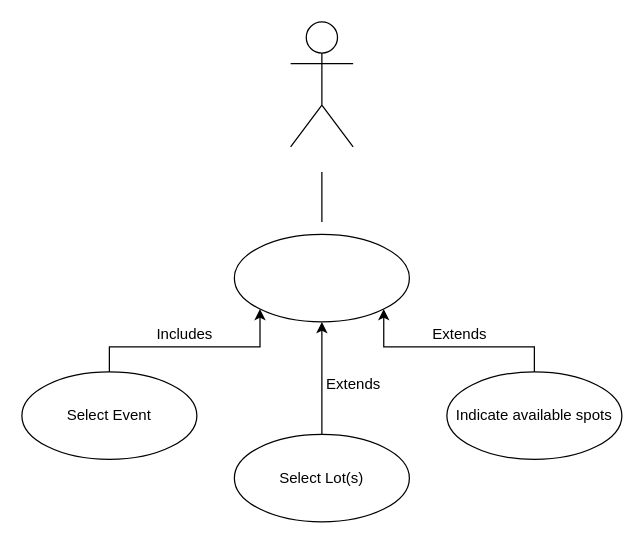
This 644x544 diagram has some shape labels left out. Here are the shapes that lost their labels. From the top down, the centre of each, then its label:
At point (321, 84): "Parking Lot Owner".
At point (321, 277): "Open Lot for Reservations".
